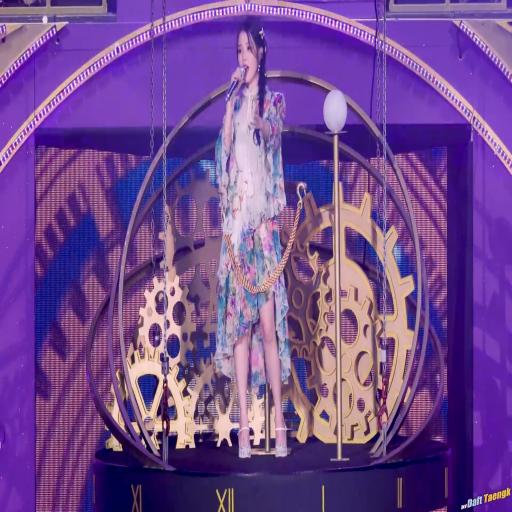IU: (236, 22, 268, 86)
